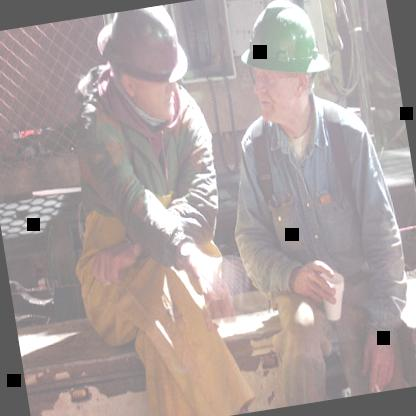helmet: (80, 0, 211, 142), (221, 0, 348, 144)
